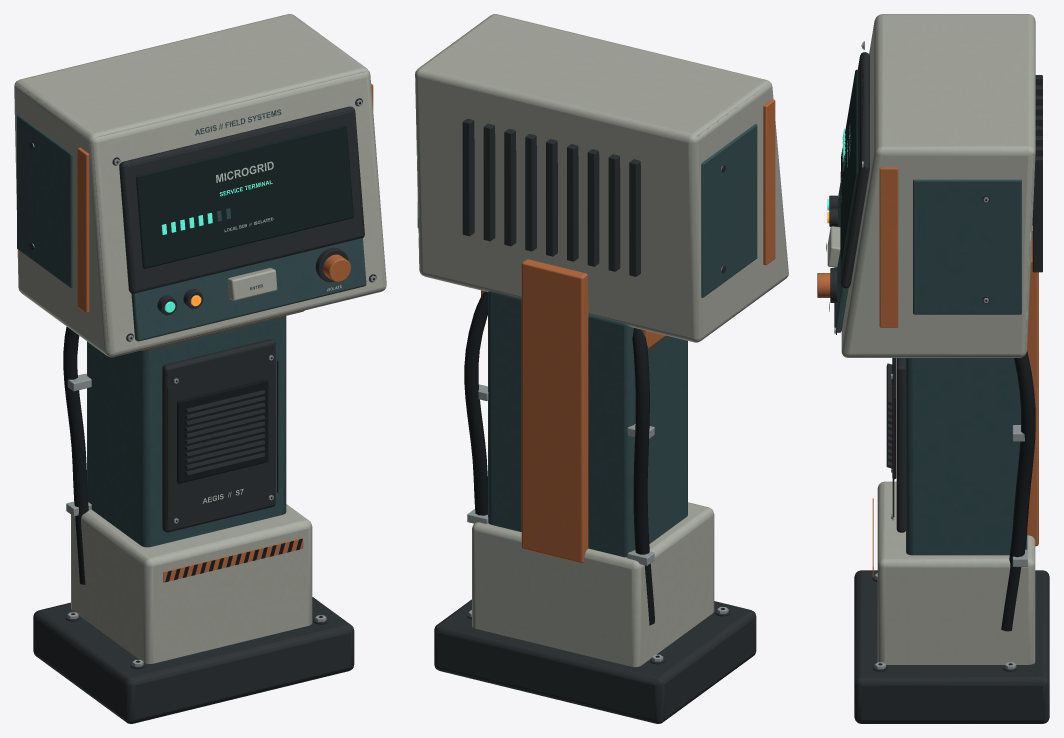
The model's file is ServiceTerminal.glb.
The picture shows the model from 3 angles, left to right: view 1: azimuth 30°, elevation 25°; view 2: azimuth 150°, elevation 25°; view 3: azimuth 270°, elevation 25°; orthographic projection.
Visible parts, largest first — view 1: ServiceTerminal_Geometry; view 2: ServiceTerminal_Geometry; view 3: ServiceTerminal_Geometry.
Part boxes in pixels (x1,y1,x2,y2): ServiceTerminal_Geometry: (14, 14, 386, 723); ServiceTerminal_Geometry: (415, 14, 788, 723); ServiceTerminal_Geometry: (817, 14, 1049, 723).
Size of the model in its own units: 0.8322 by 1.6 by 0.5712.
Materials: 1 (1 with a texture image).
